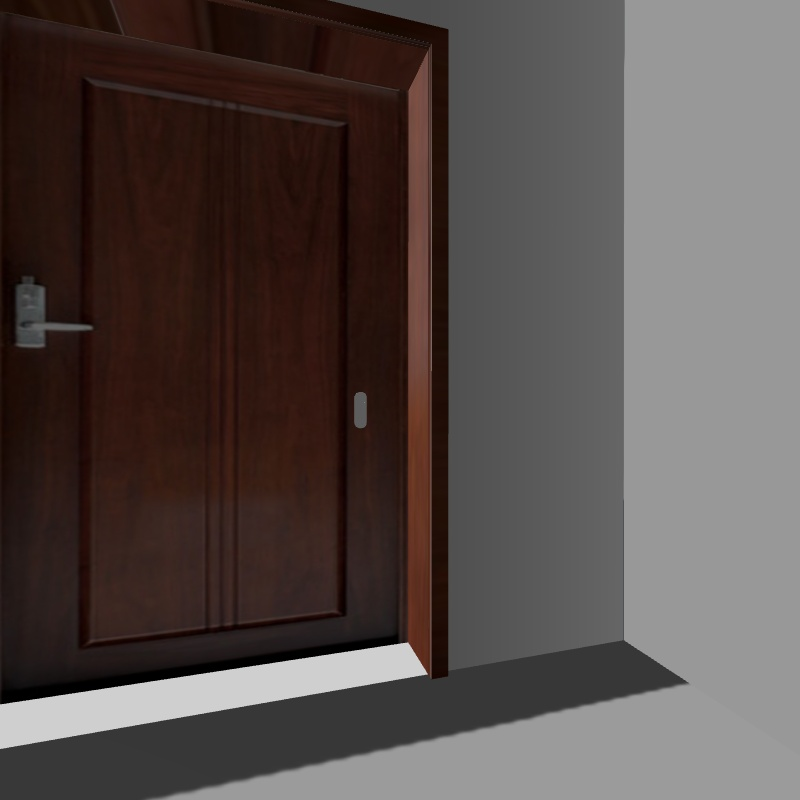handle: (1, 264, 80, 362)
